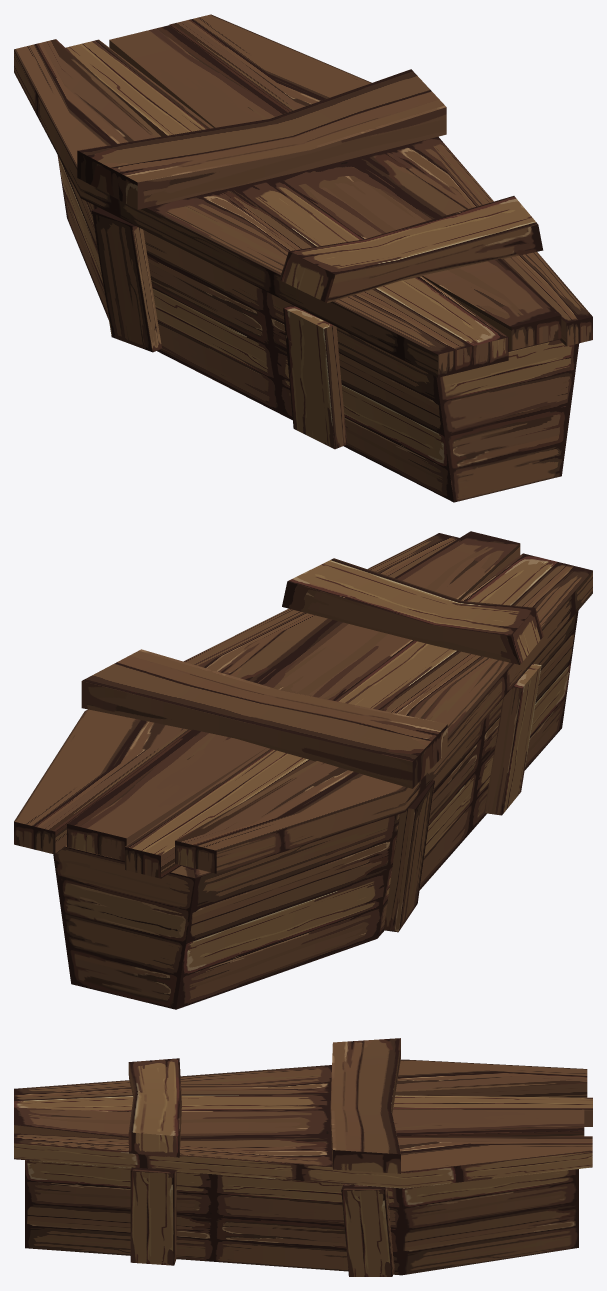
File: SM_PROP_coffin_dungeon.fbx
3 renders of one model, top to bottom at view 1: azimuth 30°, elevation 25°; view 2: azimuth 150°, elevation 25°; view 3: azimuth 270°, elevation 25°, orthographic. The views are drawn at different scales.
Parts seen in each view (by area): view 1: SM_PROP_coffin_dungeon_lid, SM_PROP_coffin_dungeon; view 2: SM_PROP_coffin_dungeon_lid, SM_PROP_coffin_dungeon; view 3: SM_PROP_coffin_dungeon_lid, SM_PROP_coffin_dungeon.
Boxes of the visible parts, <box> form: SM_PROP_coffin_dungeon_lid: <box>14,14,592,377</box>; SM_PROP_coffin_dungeon: <box>57,155,579,502</box>; SM_PROP_coffin_dungeon_lid: <box>14,531,592,878</box>; SM_PROP_coffin_dungeon: <box>53,610,578,1009</box>; SM_PROP_coffin_dungeon_lid: <box>14,1038,592,1188</box>; SM_PROP_coffin_dungeon: <box>25,1160,578,1276</box>.
Bounding box in the file's own units: 106 × 56.89 × 224.
